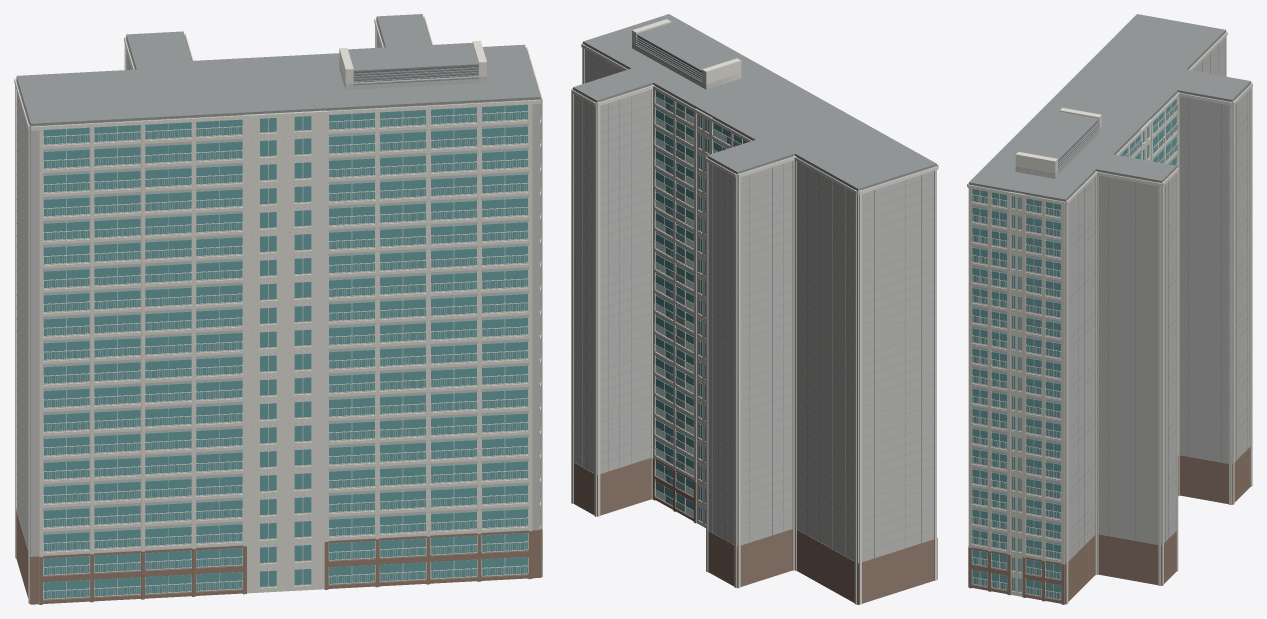
File: bespoke-jamsil-els-165.glb
3 renders of one model, left to right at view 1: azimuth 30°, elevation 25°; view 2: azimuth 150°, elevation 25°; view 3: azimuth 270°, elevation 25°, orthographic. The views are drawn at different scales.
Visible parts, largest first — view 1: Els165_editable_Els165_turquoise_balcony_glazing, Els165_white_exact_chunk_0, Els165_editable_Els165_light_grey_solid_wall, Els165_white_exact_chunk_1, Els165_editable_Els165_modest_grey_flat_roof_caps, Els165_white_exact_chunk_2, Els165_editable_Els165_muted_ground_wall, Els165_white_exact_chunk_3, Els165_white_exact_chunk_4, Els165_editable_Els165_narrow_charcoal_service_strips; view 2: Els165_editable_Els165_light_grey_solid_wall, Els165_editable_Els165_modest_grey_flat_roof_caps, Els165_white_exact_chunk_3, Els165_editable_Els165_muted_ground_wall, Els165_editable_Els165_turquoise_balcony_glazing, Els165_white_exact_chunk_4, Els165_white_exact_chunk_0; view 3: Els165_editable_Els165_light_grey_solid_wall, Els165_editable_Els165_modest_grey_flat_roof_caps, Els165_white_exact_chunk_3, Els165_editable_Els165_turquoise_balcony_glazing, Els165_white_exact_chunk_2, Els165_editable_Els165_muted_ground_wall, Els165_white_exact_chunk_4.
Boxes of the visible parts, <box> form: Els165_editable_Els165_turquoise_balcony_glazing: <box>43,98,540,598</box>; Els165_white_exact_chunk_0: <box>14,77,325,603</box>; Els165_editable_Els165_light_grey_solid_wall: <box>16,19,540,569</box>; Els165_white_exact_chunk_1: <box>39,110,477,604</box>; Els165_editable_Els165_modest_grey_flat_roof_caps: <box>16,14,540,555</box>; Els165_white_exact_chunk_2: <box>31,70,541,576</box>; Els165_editable_Els165_muted_ground_wall: <box>16,508,542,604</box>; Els165_white_exact_chunk_3: <box>374,16,542,576</box>; Els165_white_exact_chunk_4: <box>124,33,486,89</box>; Els165_editable_Els165_narrow_charcoal_service_strips: <box>353,65,478,80</box>; Els165_editable_Els165_light_grey_solid_wall: <box>573,43,936,563</box>; Els165_editable_Els165_modest_grey_flat_roof_caps: <box>573,14,936,562</box>; Els165_white_exact_chunk_3: <box>571,42,712,527</box>; Els165_editable_Els165_muted_ground_wall: <box>574,458,937,604</box>; Els165_editable_Els165_turquoise_balcony_glazing: <box>656,91,747,522</box>; Els165_white_exact_chunk_4: <box>632,19,795,588</box>; Els165_white_exact_chunk_0: <box>794,156,938,604</box>; Els165_editable_Els165_light_grey_solid_wall: <box>969,32,1250,576</box>; Els165_editable_Els165_modest_grey_flat_roof_caps: <box>969,14,1250,561</box>; Els165_white_exact_chunk_3: <box>968,119,1178,604</box>; Els165_editable_Els165_turquoise_balcony_glazing: <box>972,99,1176,599</box>; Els165_white_exact_chunk_2: <box>967,16,1134,596</box>; Els165_editable_Els165_muted_ground_wall: <box>968,446,1250,604</box>; Els165_white_exact_chunk_4: <box>1015,82,1252,504</box>.
Size of the model in its own units: 51.67 by 54.35 by 33.35.
